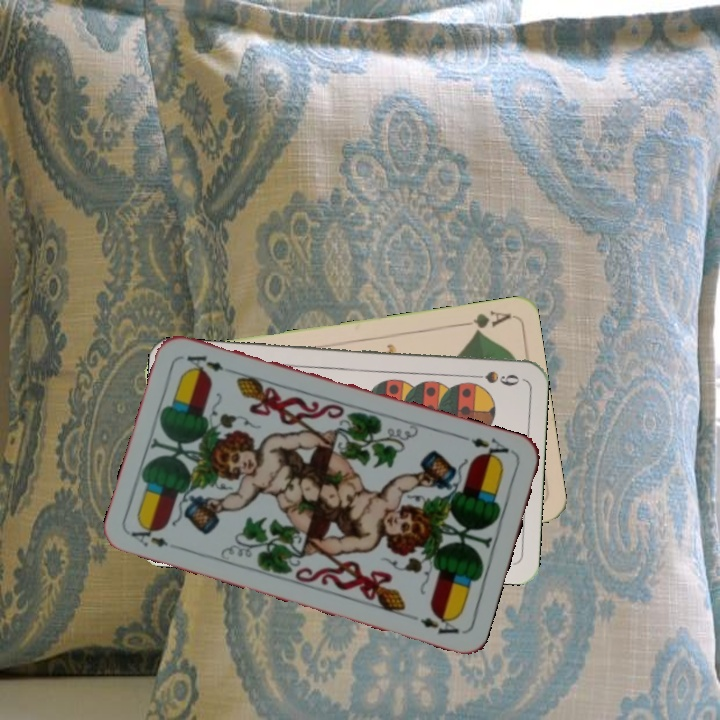EA: (127, 520, 184, 552), (467, 433, 517, 464)
GA: (454, 306, 513, 337)
S9: (463, 366, 522, 389)
